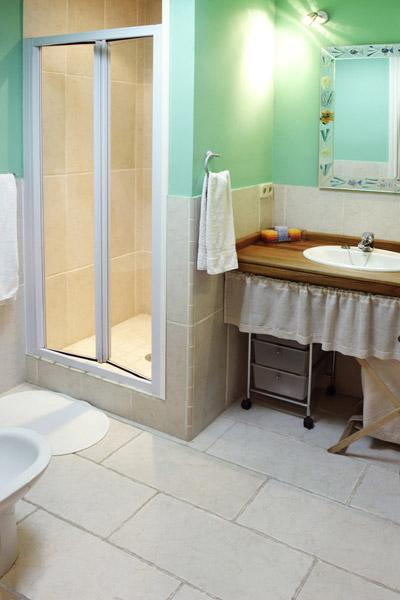Ducha: (25, 39, 164, 426)
Lavamanos: (290, 221, 399, 274)
